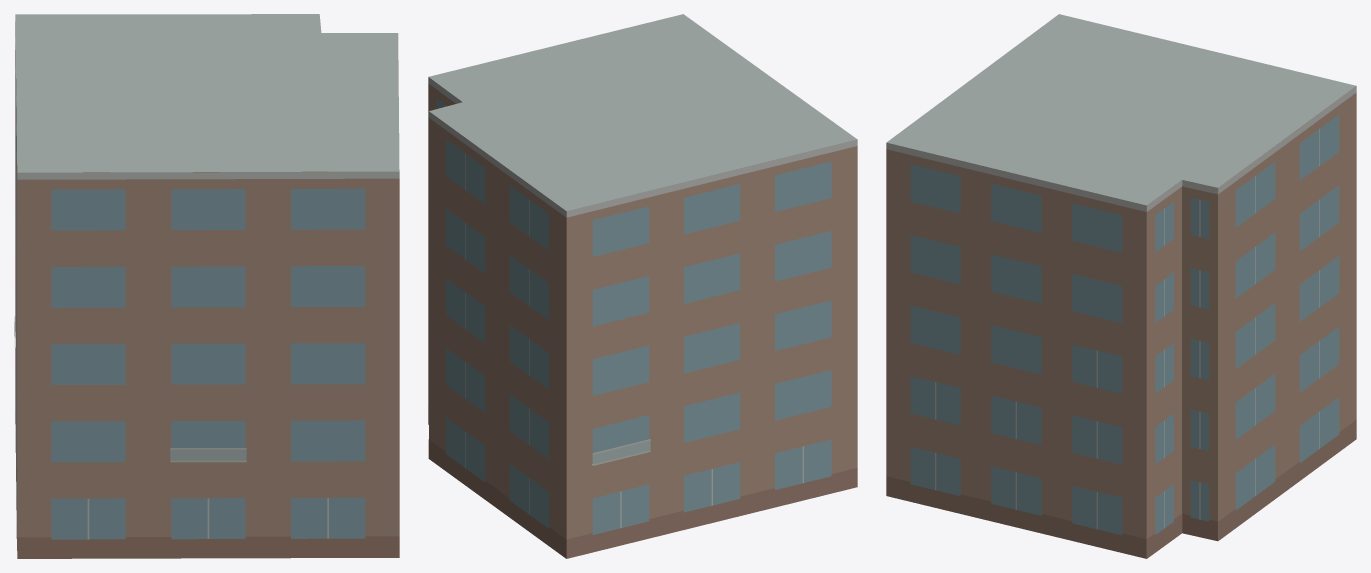
File: survey-upis-32712339.glb
3 views of the same model, side by side, from view 1: azimuth 30°, elevation 25°; view 2: azimuth 150°, elevation 25°; view 3: azimuth 270°, elevation 25° (orthographic). The views are drawn at different scales.
Visible parts, largest first — view 1: survey-upis-32712339.tmp; view 2: survey-upis-32712339.tmp; view 3: survey-upis-32712339.tmp.
Part boxes in pixels (x1,y1,x2,y2): survey-upis-32712339.tmp: (14,14,399,558); survey-upis-32712339.tmp: (428,14,857,558); survey-upis-32712339.tmp: (886,14,1356,558).
Bounding box in the file's own units: 15.29 × 13.15 × 15.87.
